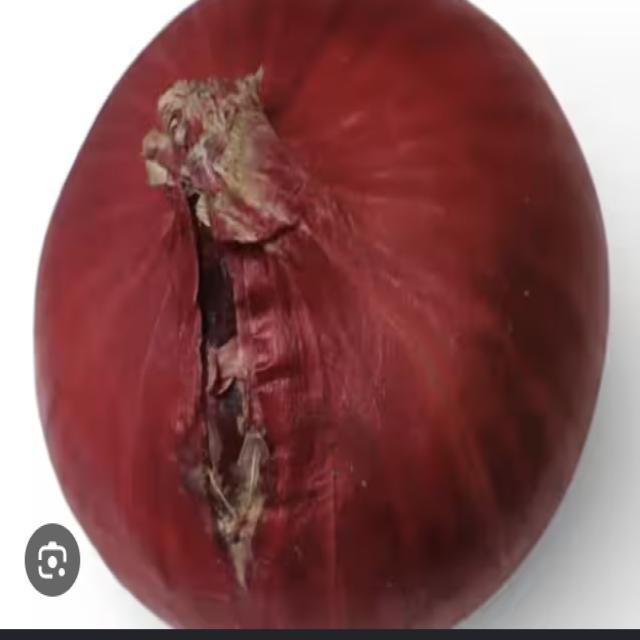mechanical_damage: (35, 0, 607, 626)
